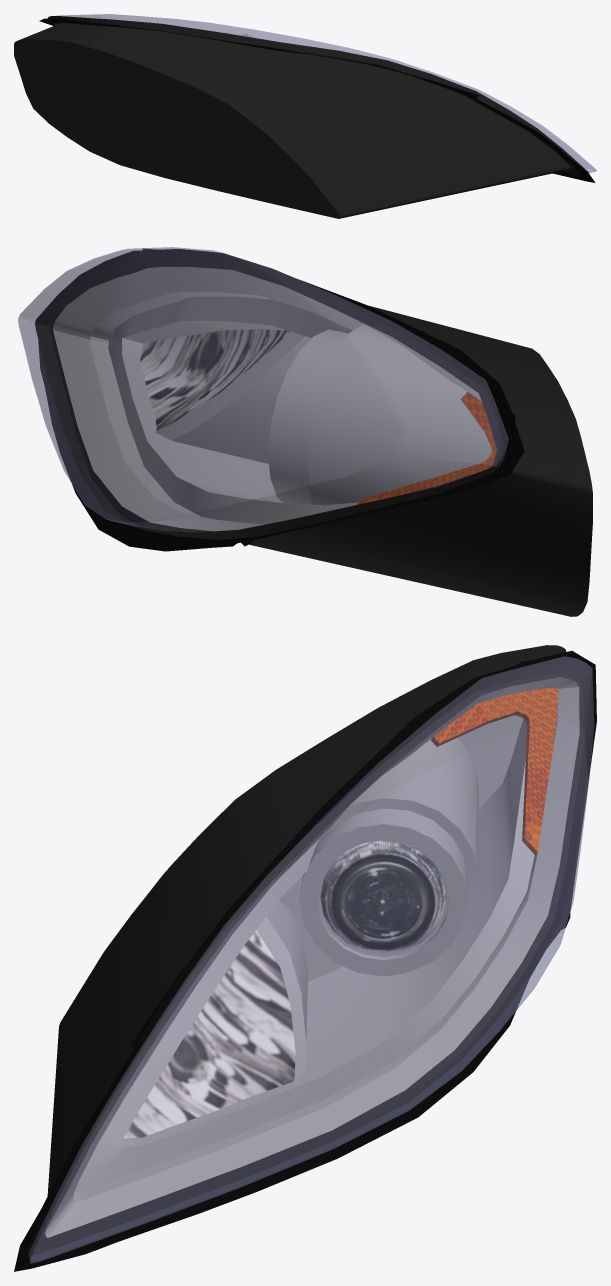
The picture shows the model from 3 angles, top to bottom: view 1: azimuth 30°, elevation 25°; view 2: azimuth 150°, elevation 25°; view 3: azimuth 270°, elevation 25°; orthographic projection. The views are drawn at different scales.
Visible parts, largest first — view 1: D162_061B_L_D162_061B_L_4_D, D162_061B_L_D162_061B_L_5_DTaSI, D162_061B_L_D162_061B_L_7_D; view 2: D162_061B_L_D162_061B_L_5_DTaSI, D162_061B_L_D162_061B_L_3_DaS, D162_061B_L_D162_061B_L_4_D, D162_061B_L_D162_061B_L_2_N, D162_061B_L_D162_061B_L_7_D, D162_061B_L_D162_061B_L_6_N; view 3: D162_061B_L_D162_061B_L_5_DTaSI, D162_061B_L_D162_061B_L_3_DaS, D162_061B_L_D162_061B_L_4_D, D162_061B_L_D162_061B_L_7_D, D162_061B_L_D162_061B_L_2_N, D162_061B_L_1_N_D162_061B_L, D162_061B_L_D162_061B_L_6_N.
Boxes of the visible parts, x1=… form: D162_061B_L_D162_061B_L_4_D: x1=14, y1=16, x2=588, y2=218; D162_061B_L_D162_061B_L_5_DTaSI: x1=56, y1=14, x2=596, y2=172; D162_061B_L_D162_061B_L_7_D: x1=39, y1=18, x2=595, y2=182; D162_061B_L_D162_061B_L_5_DTaSI: x1=18, y1=247, x2=508, y2=531; D162_061B_L_D162_061B_L_3_DaS: x1=53, y1=267, x2=492, y2=531; D162_061B_L_D162_061B_L_4_D: x1=35, y1=249, x2=592, y2=616; D162_061B_L_D162_061B_L_2_N: x1=140, y1=329, x2=290, y2=430; D162_061B_L_D162_061B_L_7_D: x1=38, y1=249, x2=524, y2=551; D162_061B_L_D162_061B_L_6_N: x1=356, y1=392, x2=496, y2=504; D162_061B_L_D162_061B_L_5_DTaSI: x1=28, y1=656, x2=594, y2=1263; D162_061B_L_D162_061B_L_3_DaS: x1=45, y1=677, x2=579, y2=1237; D162_061B_L_D162_061B_L_4_D: x1=28, y1=645, x2=594, y2=1256; D162_061B_L_D162_061B_L_7_D: x1=14, y1=651, x2=596, y2=1271; D162_061B_L_D162_061B_L_2_N: x1=124, y1=930, x2=295, y2=1138; D162_061B_L_1_N_D162_061B_L: x1=320, y1=840, x2=446, y2=953; D162_061B_L_D162_061B_L_6_N: x1=431, y1=688, x2=558, y2=854.
Size of the model in its own units: 61.86 by 21.16 by 39.57.
